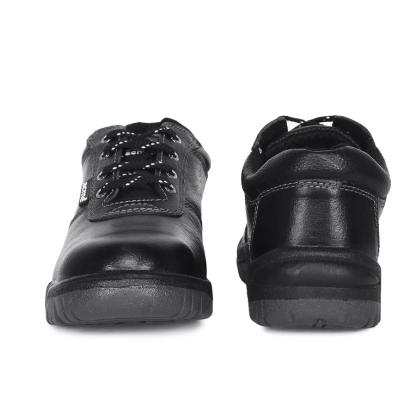bota: (40, 110, 217, 333), (232, 111, 395, 337)
